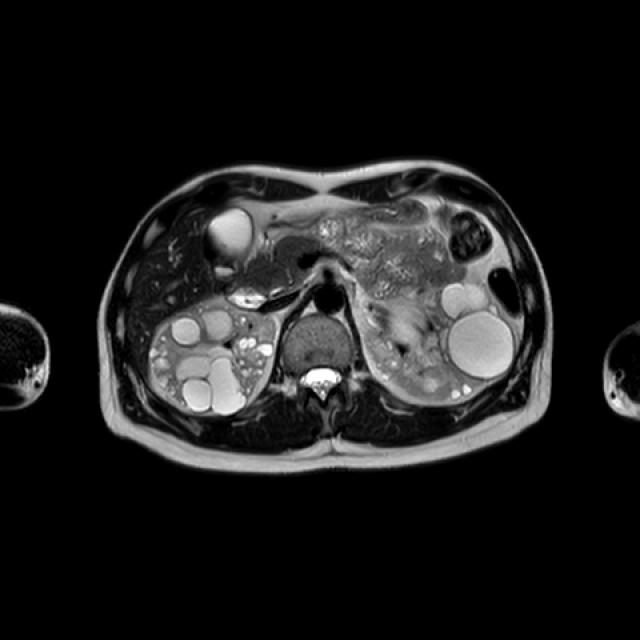sag: (149, 295, 278, 418)
sol: (365, 280, 522, 404)
